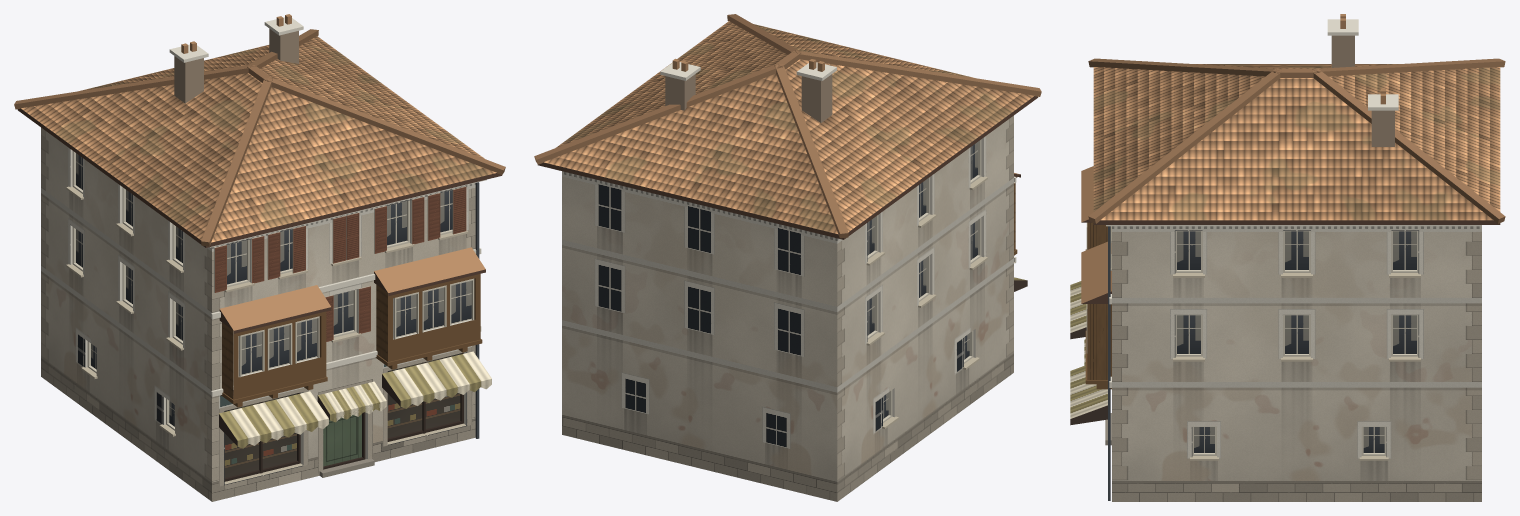
Rendered from hero_bazaar_c.glb.
3 views of the same model, side by side, from view 1: azimuth 30°, elevation 25°; view 2: azimuth 150°, elevation 25°; view 3: azimuth 270°, elevation 25° (orthographic). The views are drawn at different scales.
Parts seen in each view (by area): view 1: bld_hero_bazaar_c; view 2: bld_hero_bazaar_c; view 3: bld_hero_bazaar_c.
Boxes of the visible parts, x1,y1,x2,y2 form: bld_hero_bazaar_c: (14, 14, 505, 501); bld_hero_bazaar_c: (534, 14, 1041, 501); bld_hero_bazaar_c: (1070, 14, 1505, 501).
Bounding box in the file's own units: 12.33 × 13.9 × 14.12.
Materials: 1 (1 with a texture image).
